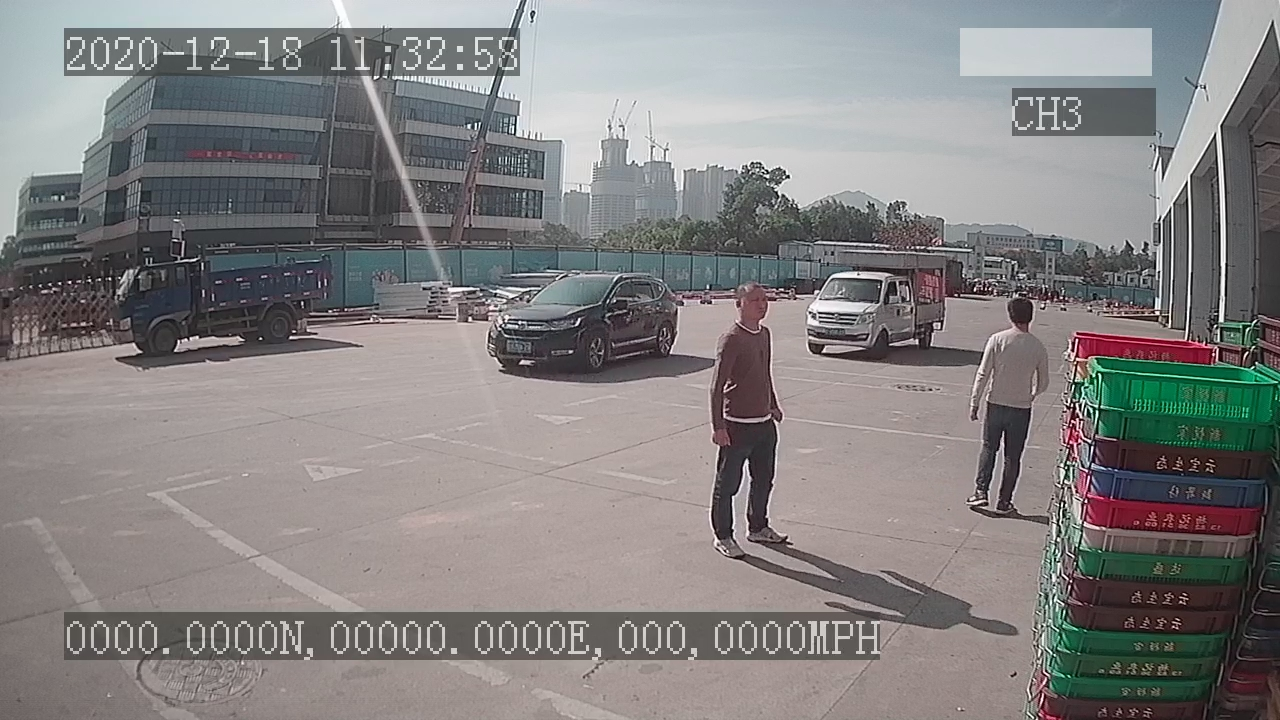person: (965, 295, 1050, 518)
